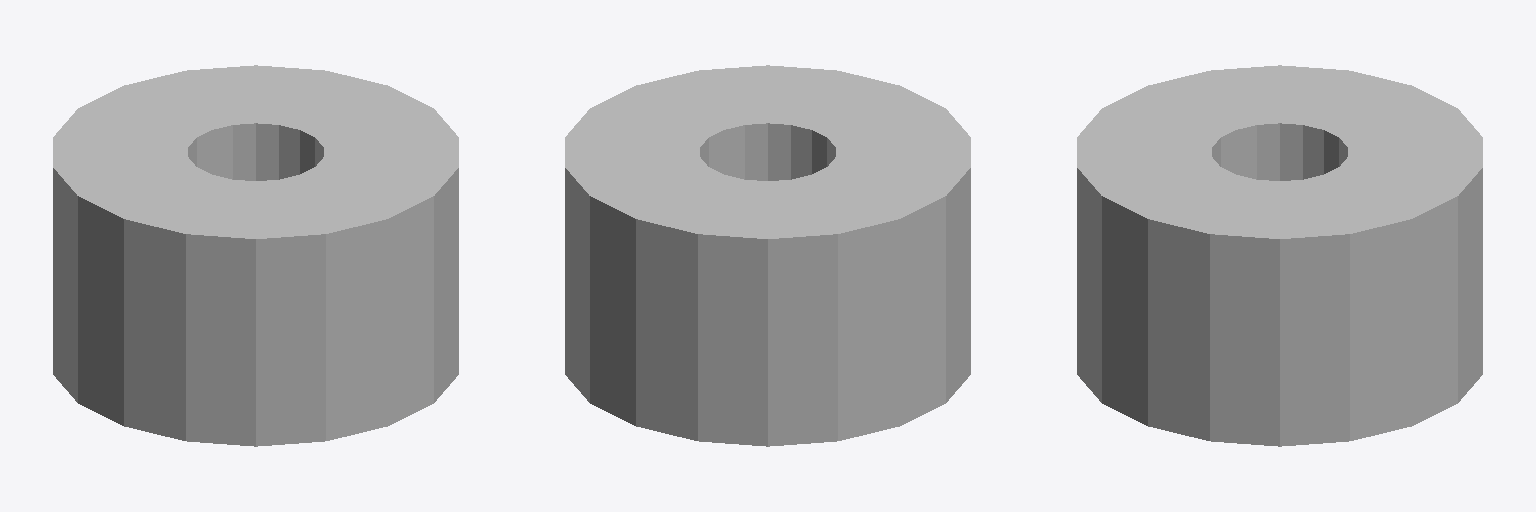
File: platypous-WheelWheel-body.obj
3 views of the same model, side by side, from view 1: azimuth 30°, elevation 25°; view 2: azimuth 150°, elevation 25°; view 3: azimuth 270°, elevation 25° (orthographic).
Visible parts, largest first — view 1: Body001; view 2: Body001; view 3: Body001.
Boxes of the visible parts, x1=… form: Body001: x1=53, y1=65, x2=458, y2=446; Body001: x1=565, y1=65, x2=970, y2=446; Body001: x1=1077, y1=65, x2=1482, y2=446.
Bounding box in the file's own units: 90 × 50 × 88.63.